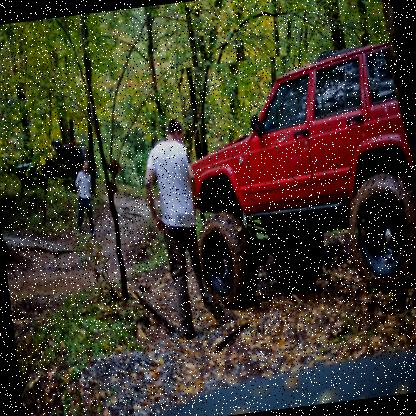Car: (176, 41, 415, 304)
